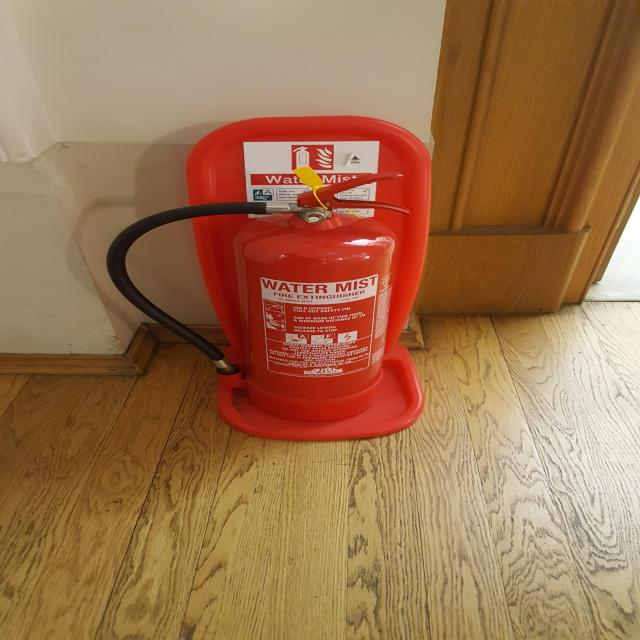fire_extinguisher: (101, 168, 416, 425)
